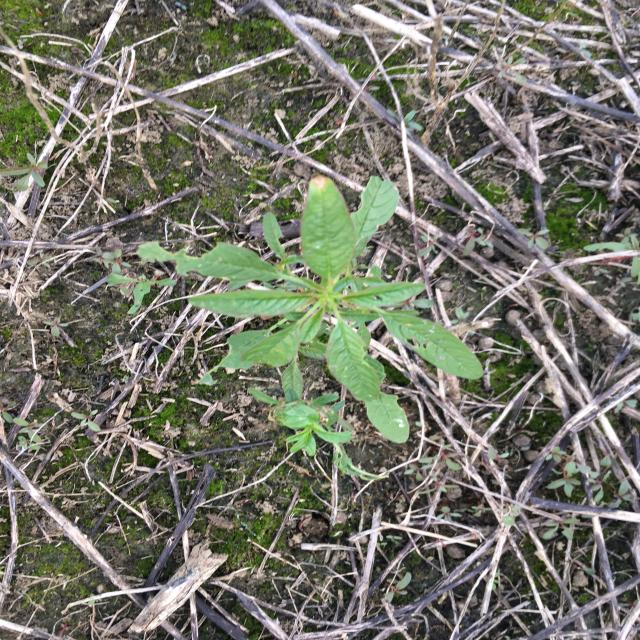Waterhemp: (172, 174, 488, 446)
